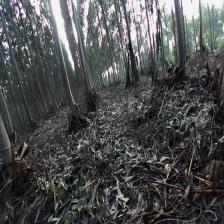trunk: (52, 28, 77, 115), (75, 25, 92, 100), (174, 2, 186, 74), (199, 0, 204, 49)
